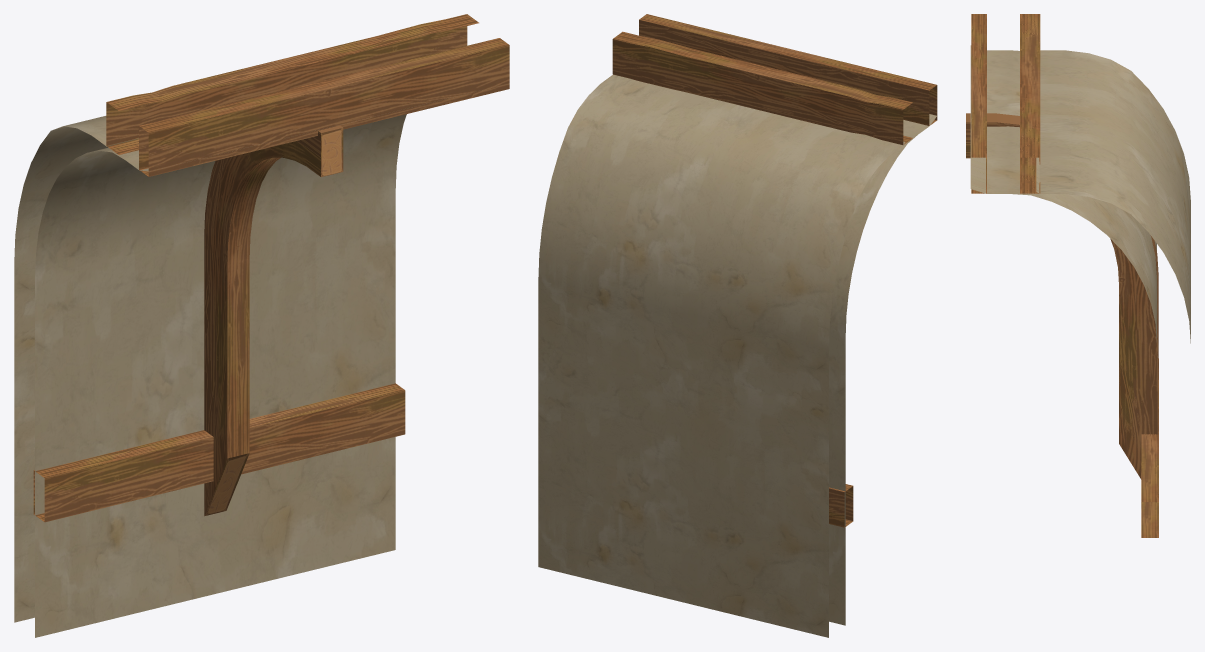
File: Overhang_Plaster_Short.gltf
3 renders of one model, left to right at view 1: azimuth 30°, elevation 25°; view 2: azimuth 150°, elevation 25°; view 3: azimuth 270°, elevation 25°, orthographic. The views are drawn at different scales.
Visible parts, largest first — view 1: Overhang_Plaster_Short; view 2: Overhang_Plaster_Short; view 3: Overhang_Plaster_Short.
Part boxes in pixels (left/top/right/bottom): Overhang_Plaster_Short: left=14, top=14, right=509, bottom=637; Overhang_Plaster_Short: left=538, top=14, right=937, bottom=637; Overhang_Plaster_Short: left=966, top=14, right=1190, bottom=537.
Bounding box in the file's own units: 2 × 3.12 × 1.32.
2 materials, 2 textured.
